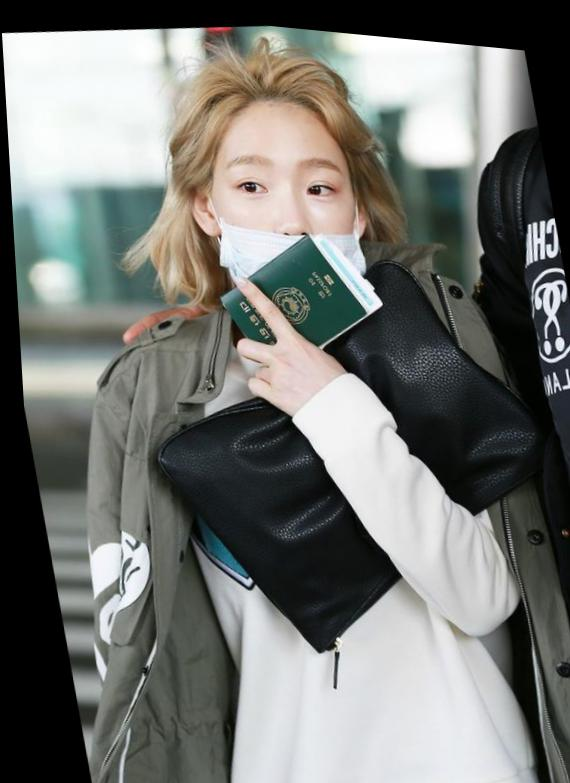WRONG: (200, 110, 374, 315)
